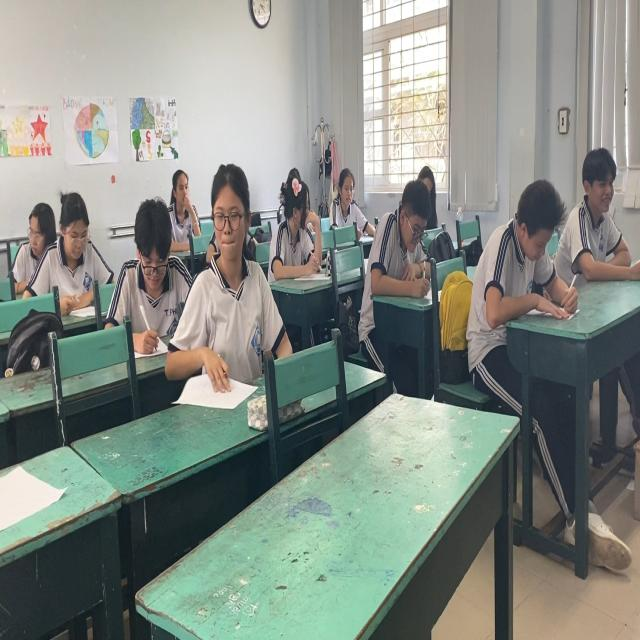cheating: (261, 171, 322, 277)
not_cheating: (475, 172, 579, 333), (194, 162, 274, 359), (114, 195, 184, 343), (569, 141, 640, 273), (368, 175, 442, 296), (46, 188, 109, 290), (164, 158, 202, 250), (15, 198, 61, 267), (324, 165, 367, 234)
